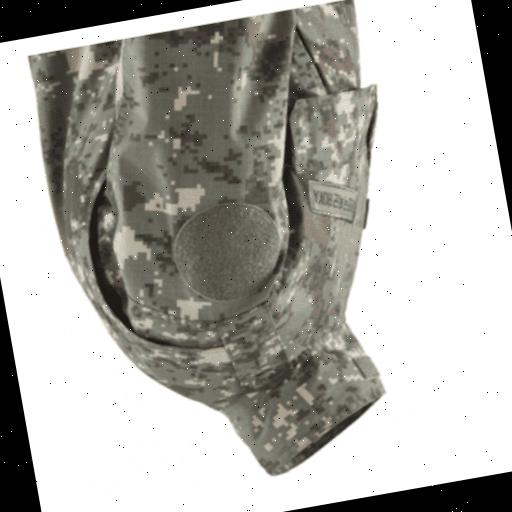korea army: (24, 0, 441, 504), (23, 0, 438, 497)
